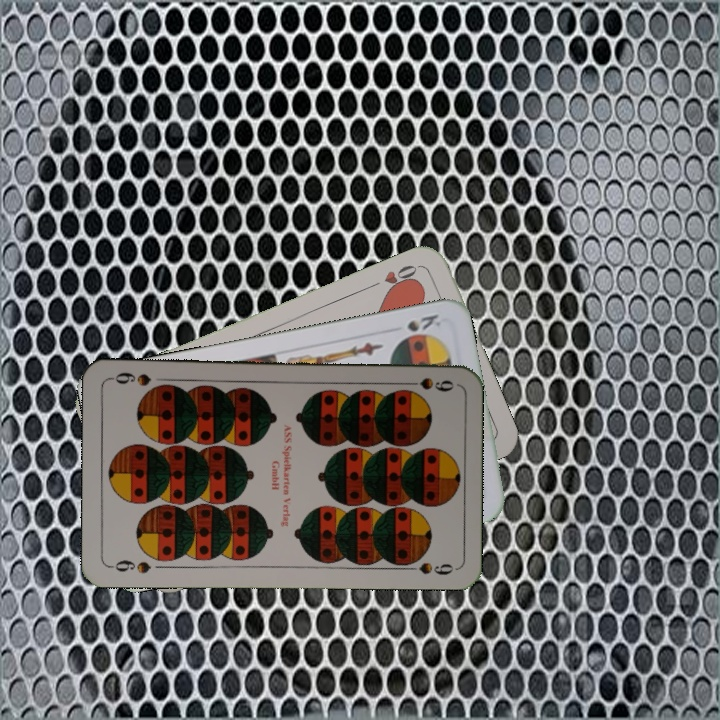HO: (365, 261, 422, 295)
S9: (397, 374, 456, 394), (106, 556, 153, 576)
SK: (403, 310, 444, 334)
